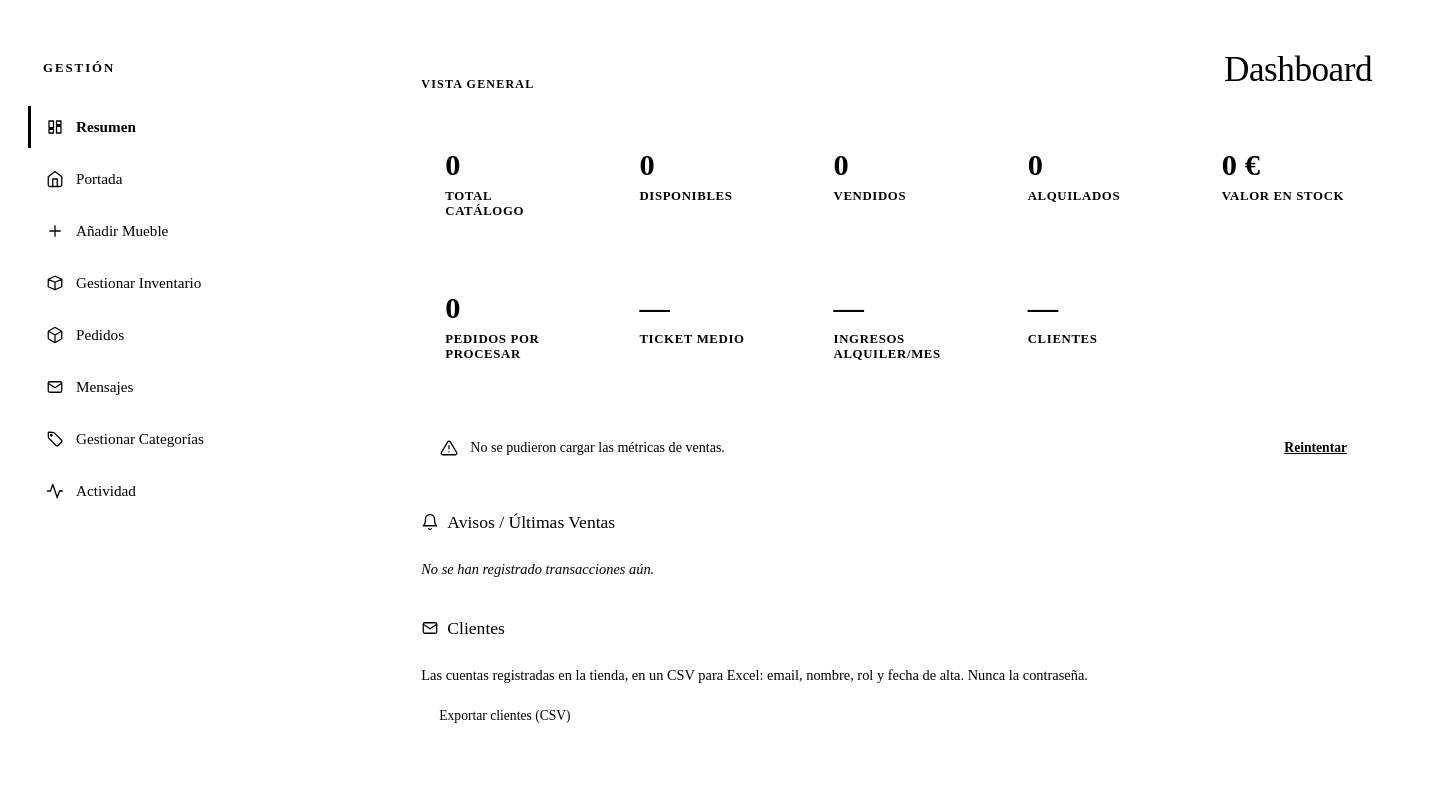
Scenario: Mensajes — la lista › con todo leído y el filtro "No leídos", lo dice
Click the button "Mensajes": (105, 386) left=28, top=366, right=341, bottom=408
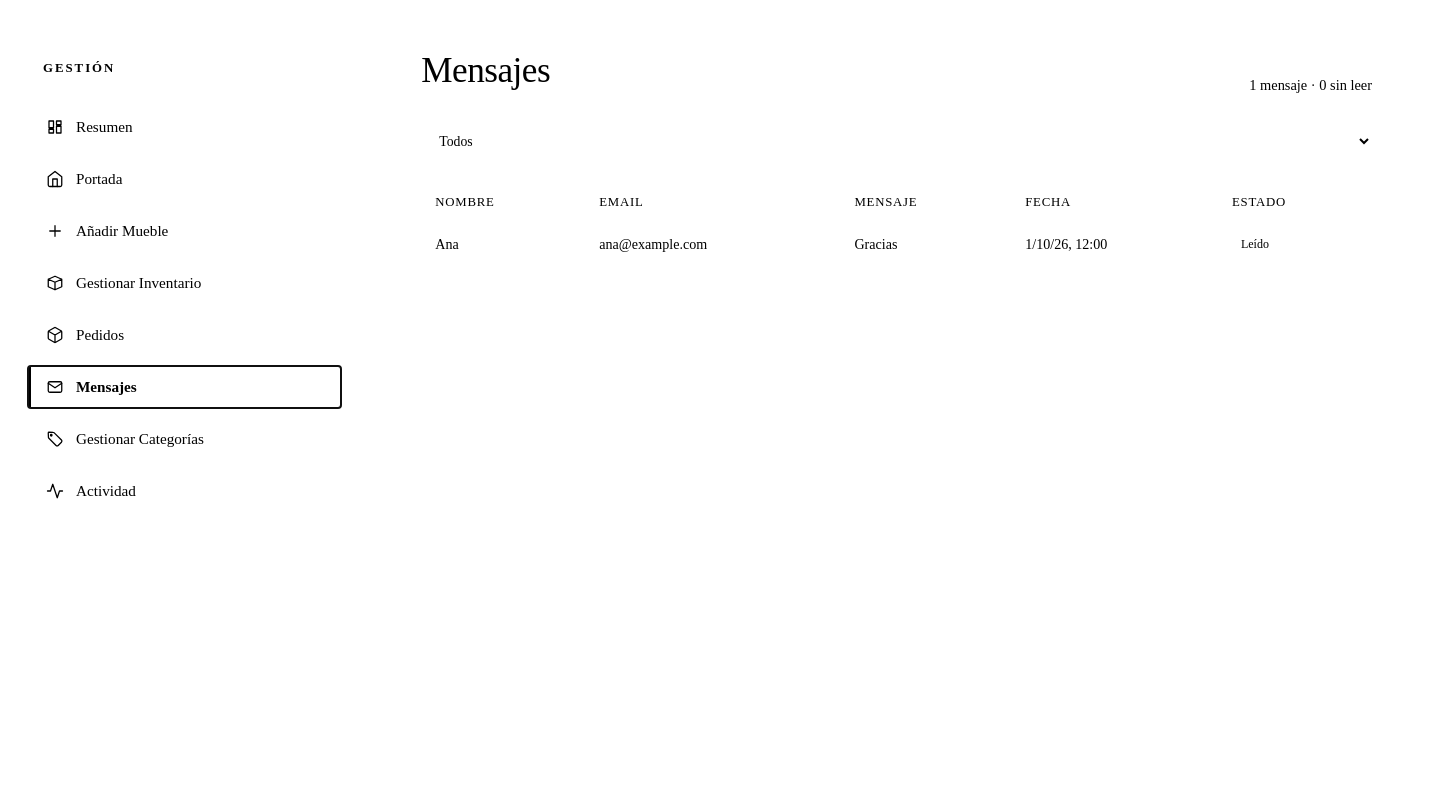
Select "No leídos" in the dropdown named "Filtrar mensajes": (897, 141) left=421, top=124, right=1372, bottom=159
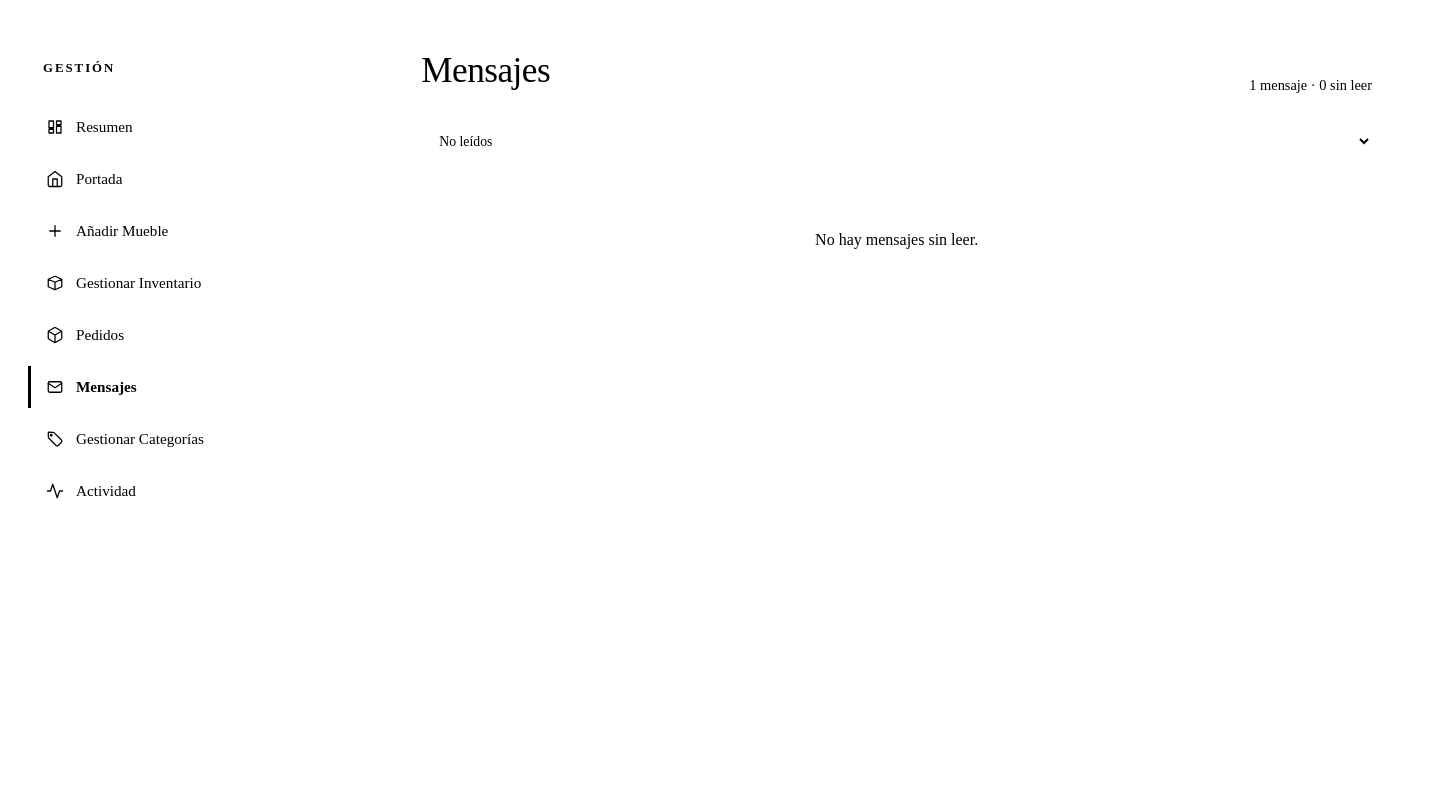
expect the text "No hay mensajes sin leer." is shown: met, box left=815, top=231, right=978, bottom=248
